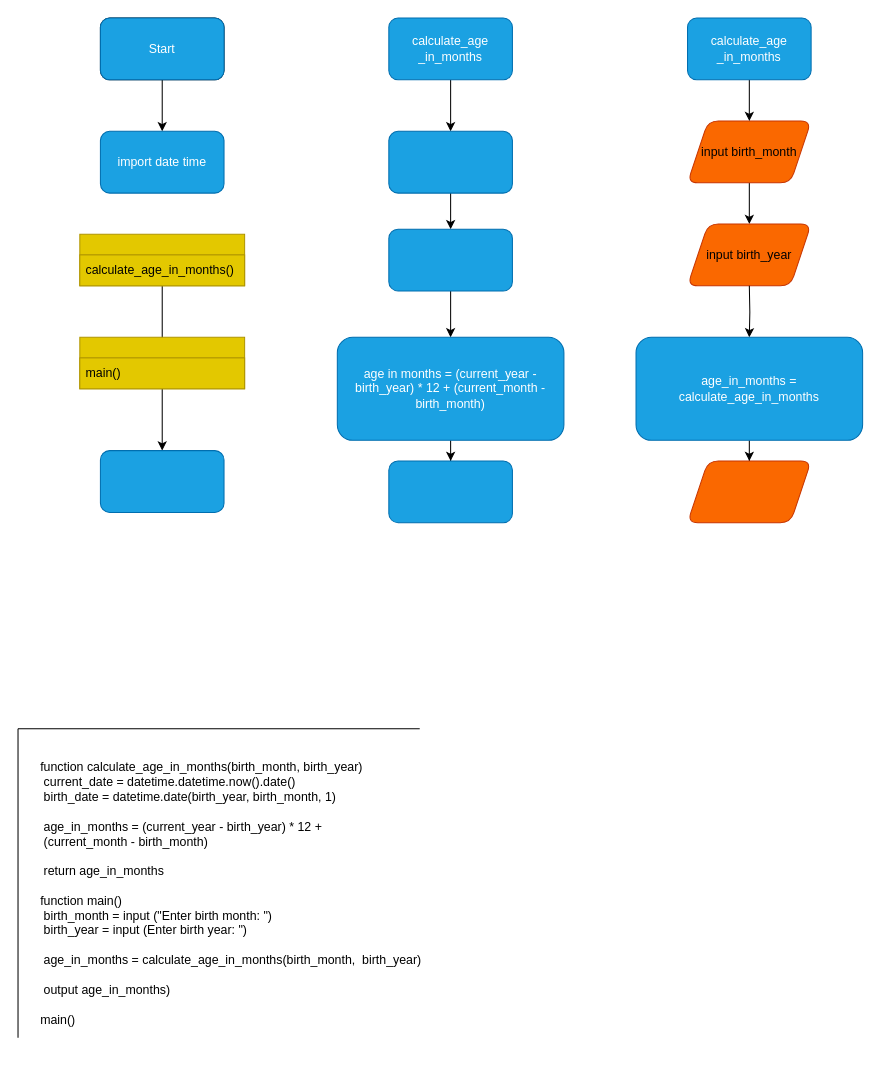
Some shapes in this 881 by 1066 pixel diagram are drawn without their labels. The shapes that lost their labels are listed below. From the top down, each one's box as (x1, y1, x2, y2) in pixels, then its label:
(388, 130, 512, 193): Get current date
(388, 228, 512, 291): Create birthdate using birth month and birth year
(99, 450, 224, 512): End
(388, 460, 512, 523): return age_in_months
(686, 460, 811, 523): output (age_in_months)
